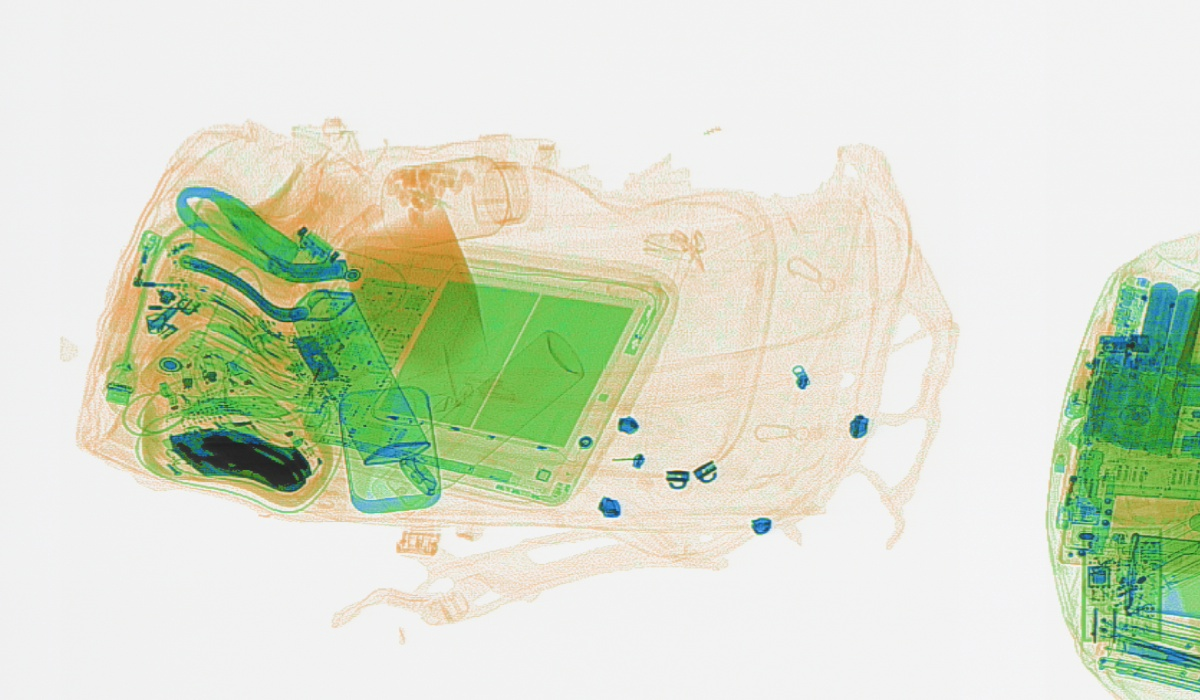lighter: (102, 225, 166, 341), (1056, 306, 1102, 423), (1052, 429, 1090, 529)
powerbank: (1079, 263, 1195, 462)
pressure: (365, 327, 588, 522)
zippooil: (287, 285, 433, 467)
